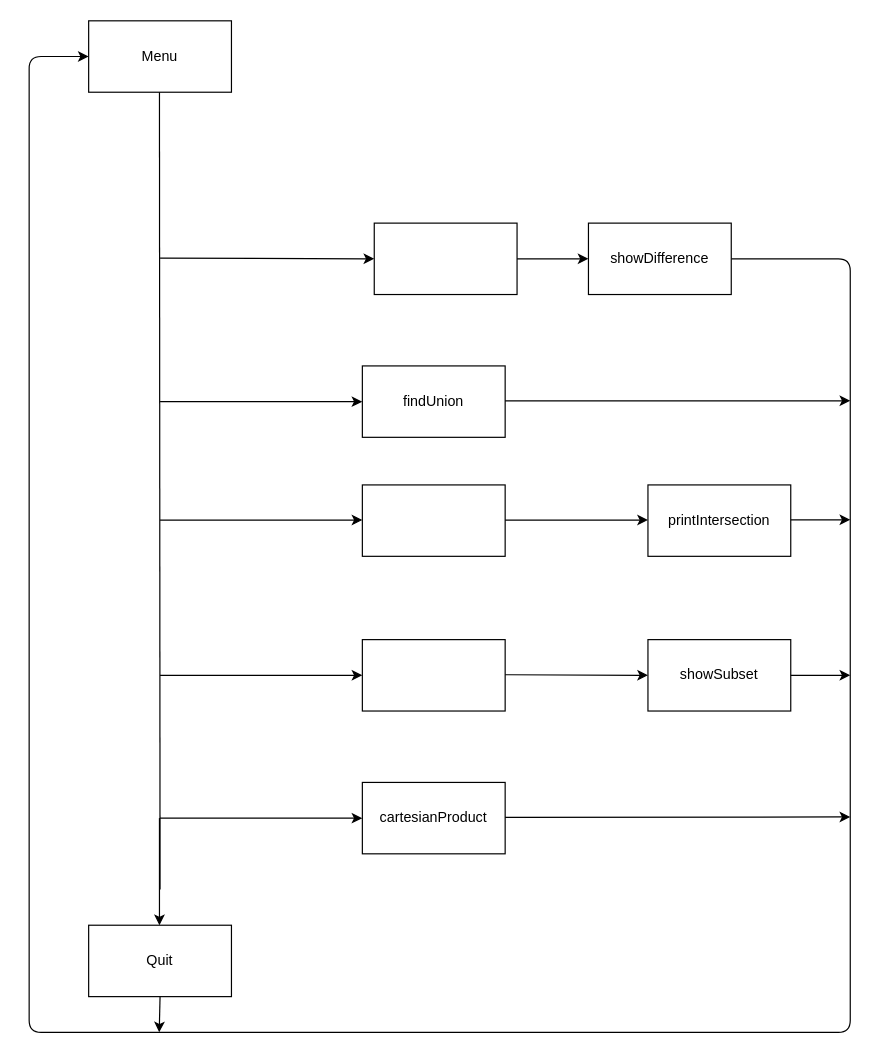
Some shapes in this 881 by 1063 pixel diagram are drawn without their labels. Here are the shapes that lost their labels. From the top down, the centre of each, then its label:
pixel 445 258: difference
pixel 433 520: findIntersection
pixel 433 674: isSubset
